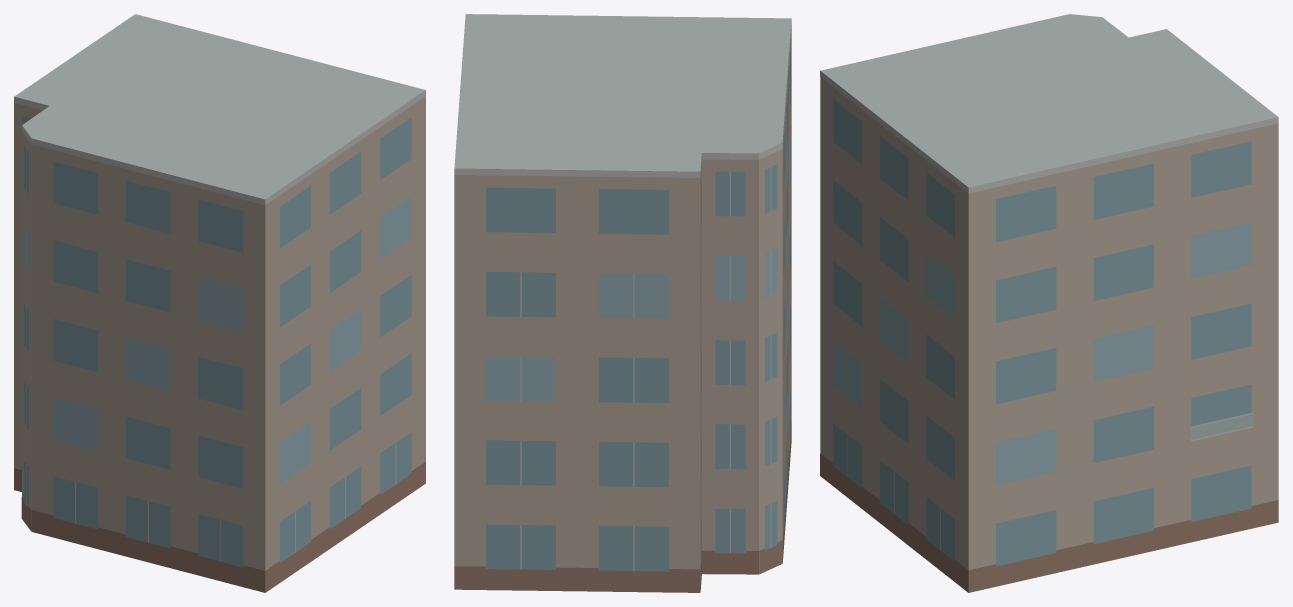
File: survey-upis-32997072.glb
The picture shows the model from 3 angles, left to right: view 1: azimuth 30°, elevation 25°; view 2: azimuth 150°, elevation 25°; view 3: azimuth 270°, elevation 25°; orthographic projection. The views are drawn at different scales.
Visible parts, largest first — view 1: survey-upis-32997072.tmp; view 2: survey-upis-32997072.tmp; view 3: survey-upis-32997072.tmp.
Part boxes in pixels (box(x1,y1,x2,y2)): survey-upis-32997072.tmp: box(14, 14, 425, 592); survey-upis-32997072.tmp: box(454, 14, 791, 592); survey-upis-32997072.tmp: box(820, 14, 1278, 592).
Size of the model in its own units: 14.87 by 16.18 by 16.59.
